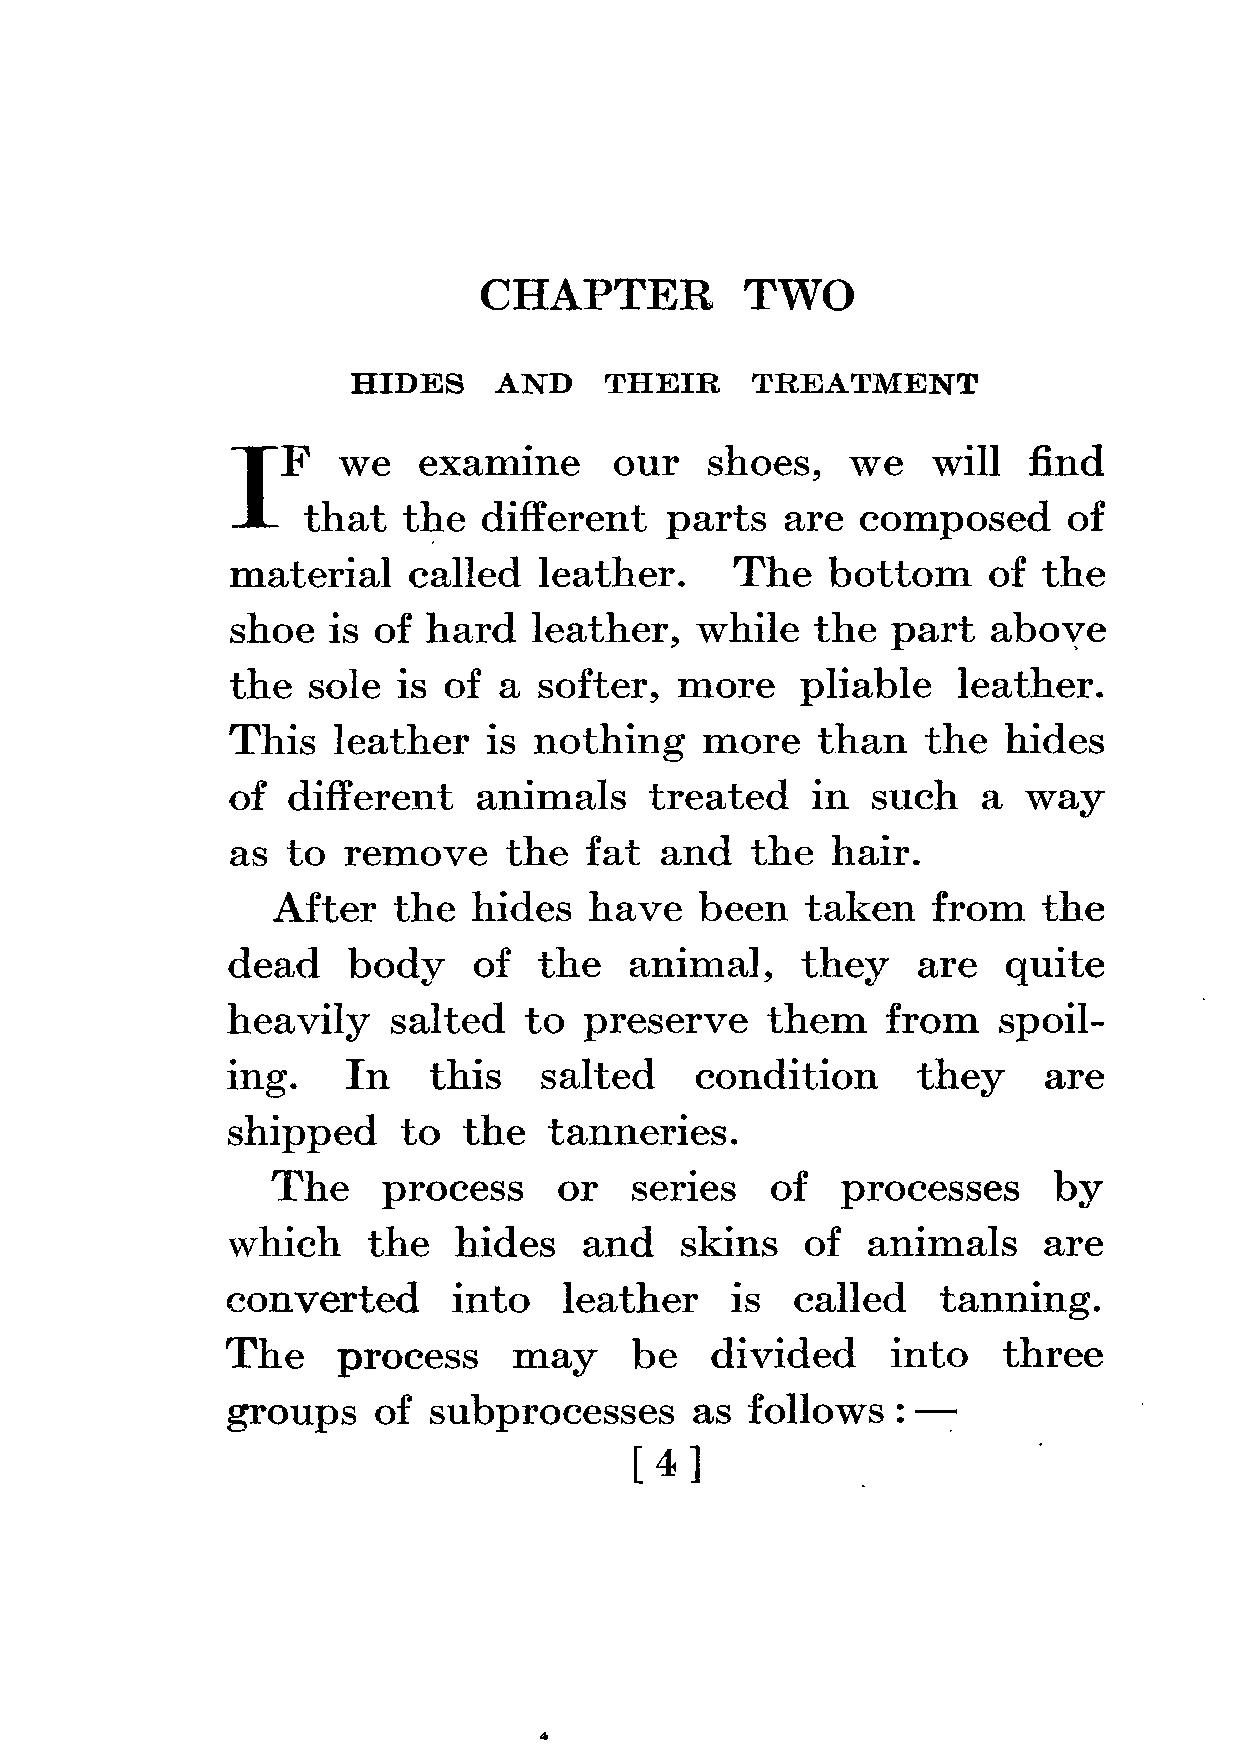chapter: (345, 275, 980, 399)
content: (224, 439, 1110, 1435)
content_pagenumber: (651, 1443, 679, 1486)
